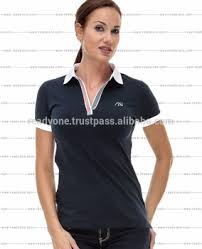S_polo shirt: (26, 58, 173, 225)
